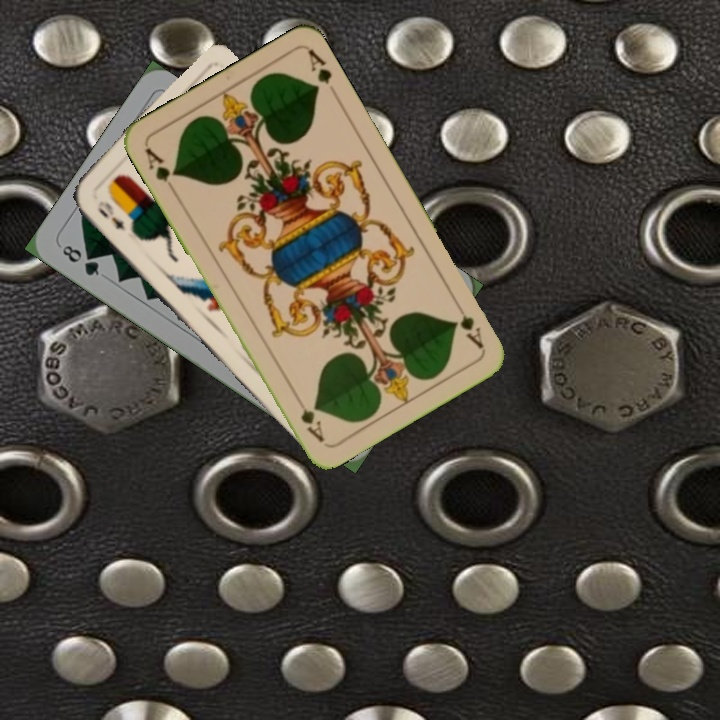EO: (93, 196, 127, 233)
G8: (58, 241, 102, 279)
GA: (141, 143, 179, 196), (450, 297, 487, 351)
